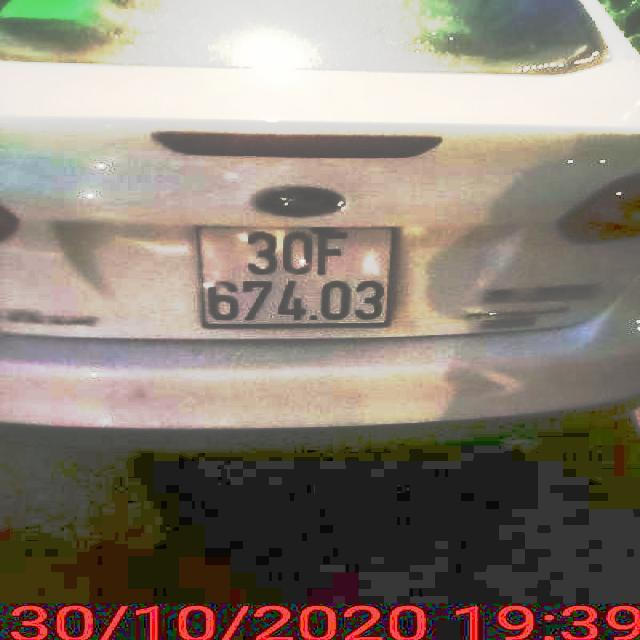license_plate: (201, 227, 387, 328)
